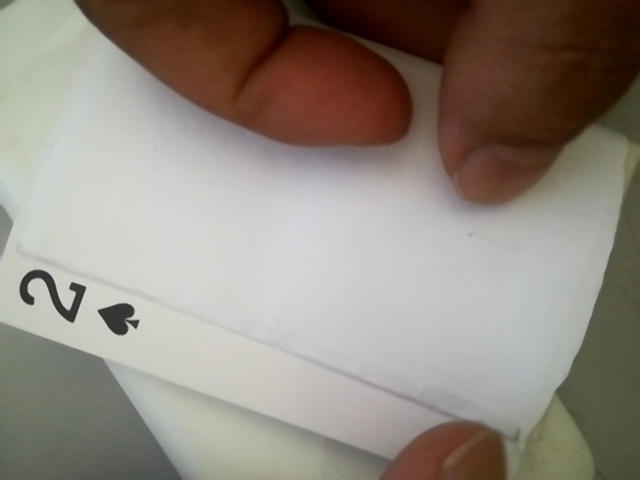ht 2: (7, 257, 157, 349)
